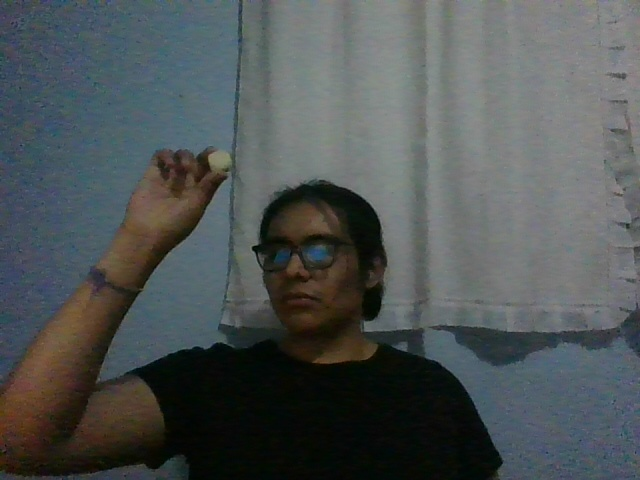goma: (208, 150, 232, 173)
